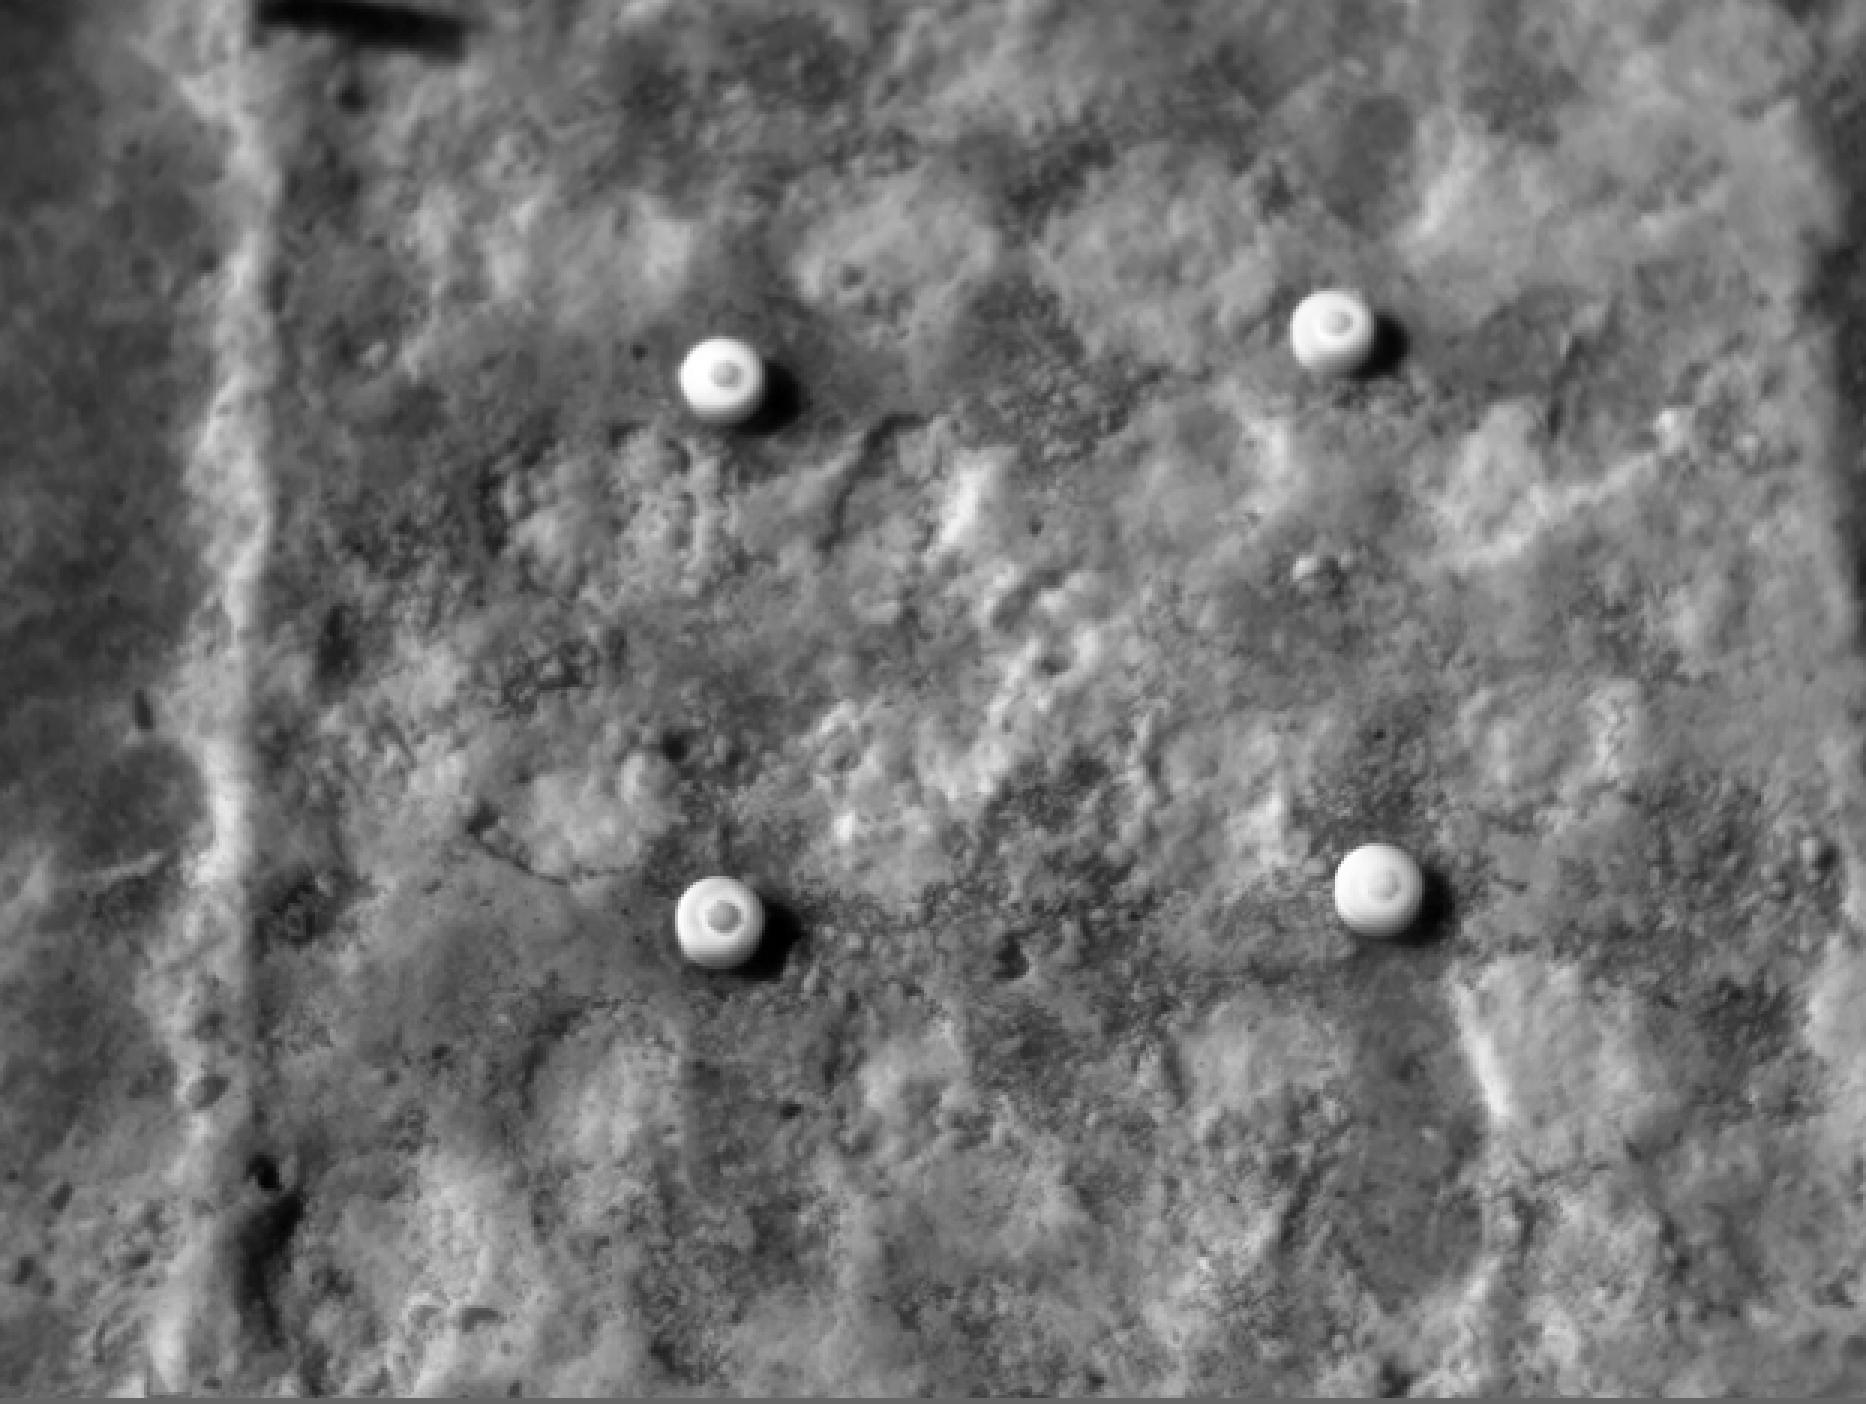mines-gjV8: (668, 861, 779, 984), (1332, 842, 1432, 960), (1285, 292, 1381, 380), (679, 342, 766, 420)
